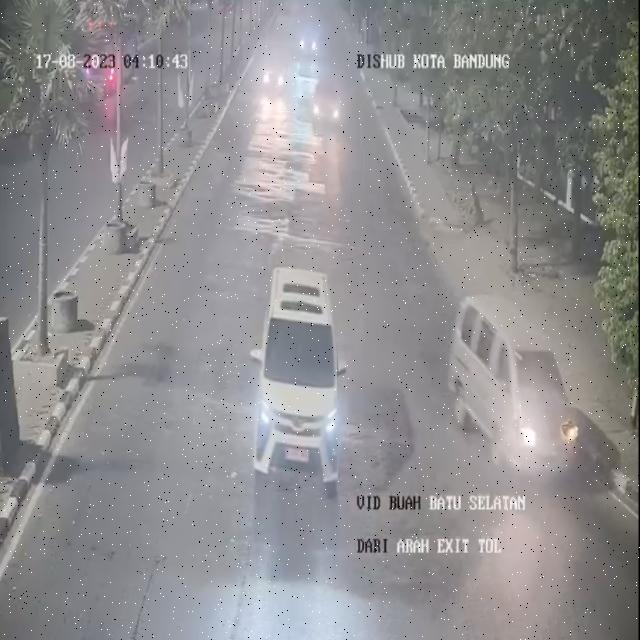cars: (444, 280, 584, 502), (247, 264, 337, 486), (310, 76, 350, 131)
